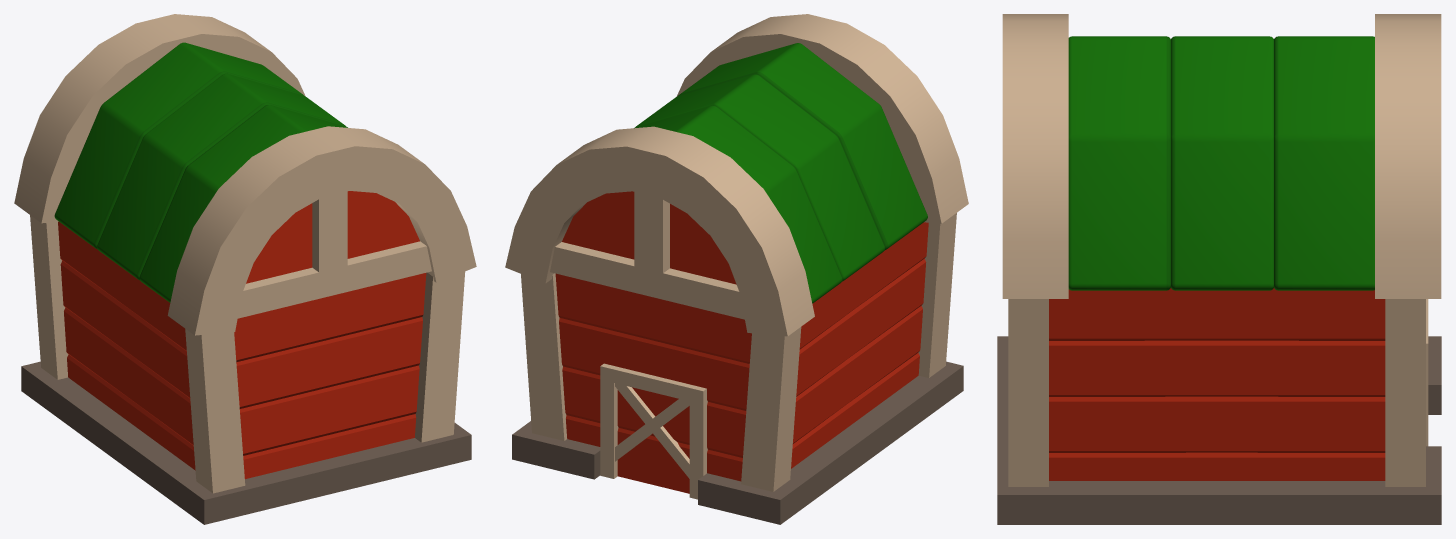
Rendered from Building3.fbx.
The picture shows the model from 3 angles, left to right: view 1: azimuth 30°, elevation 25°; view 2: azimuth 150°, elevation 25°; view 3: azimuth 270°, elevation 25°; orthographic projection. The views are drawn at different scales.
Visible parts, largest first — view 1: Plane; view 2: Plane; view 3: Plane.
Boxes of the visible parts, <box> form: Plane: <box>14,14,476,524</box>; Plane: <box>505,14,968,524</box>; Plane: <box>997,14,1441,524</box>.
Size of the model in its own units: 9.61 by 10.81 by 11.08.
